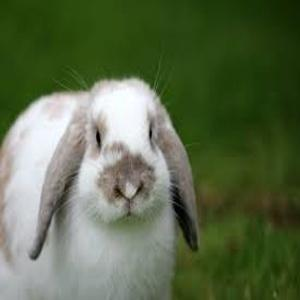rabbit: (2, 78, 200, 300)
